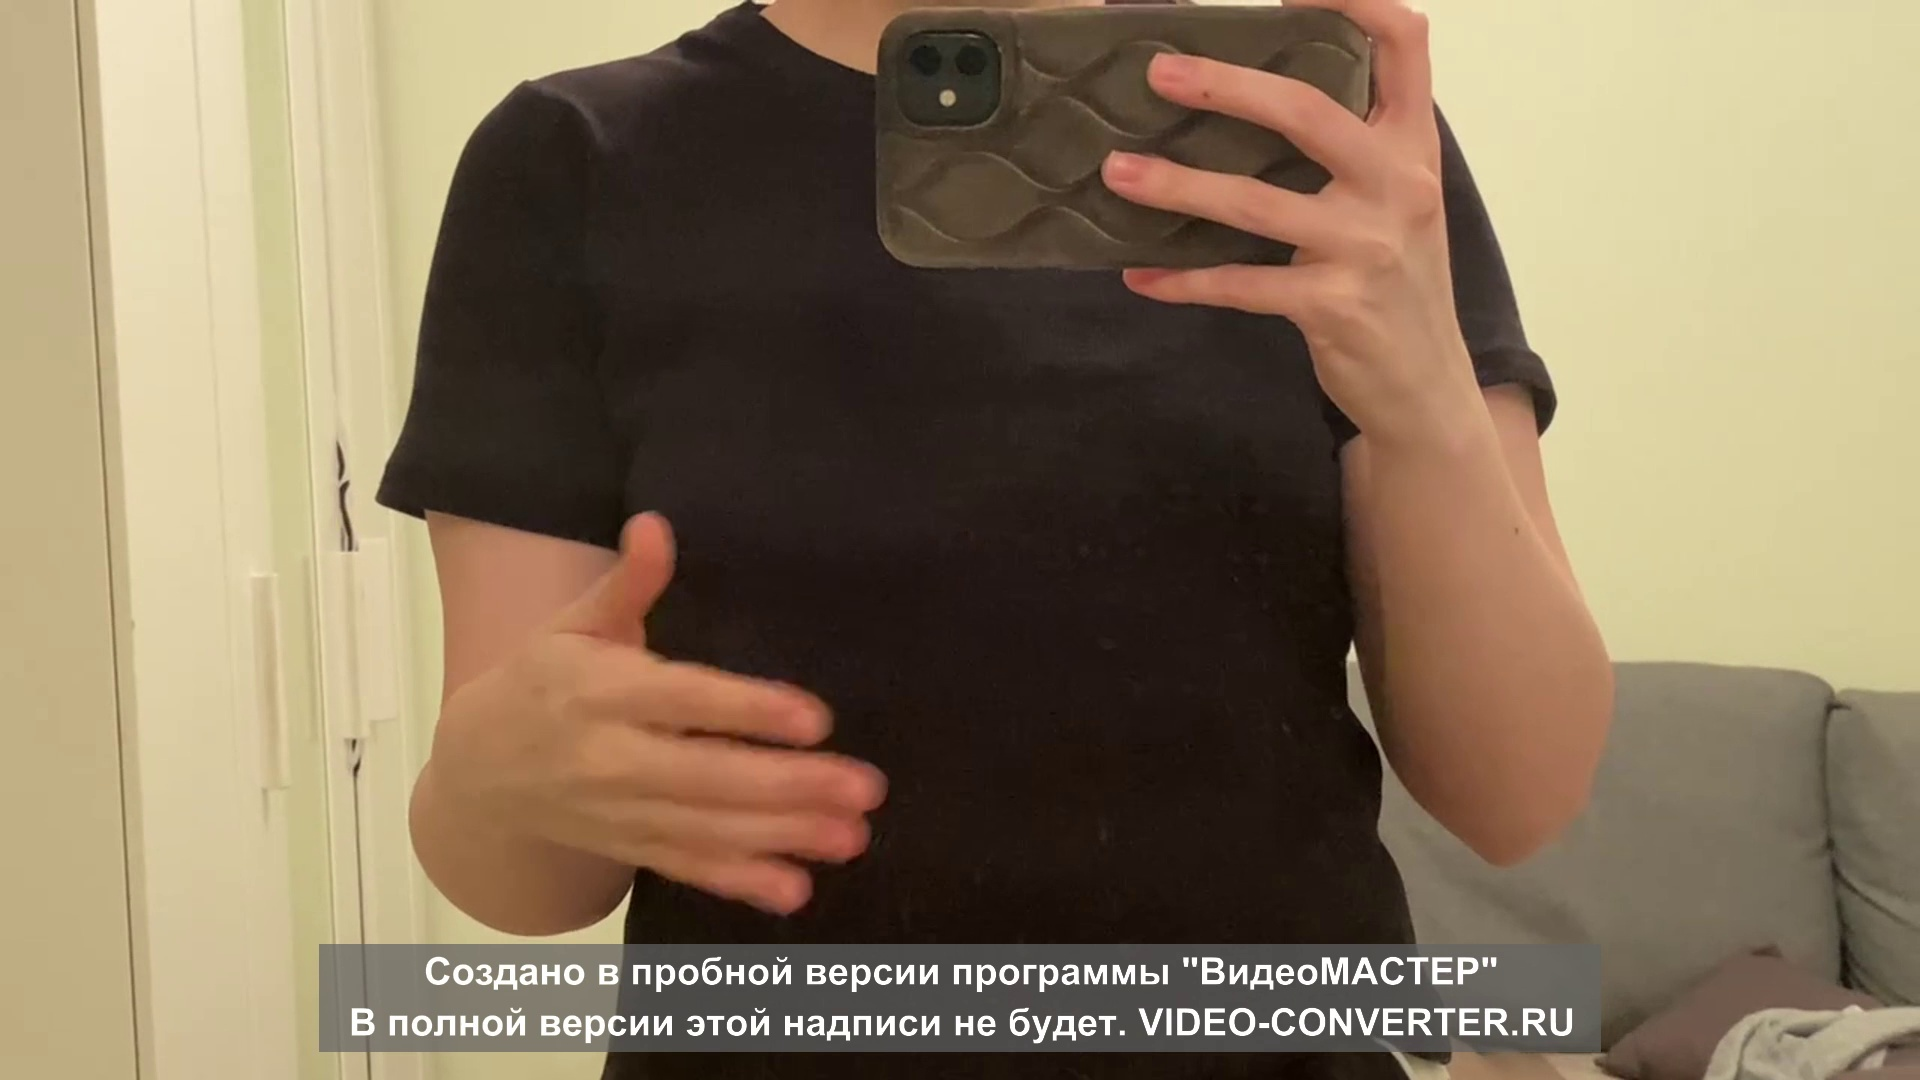Кисть: (436, 508, 893, 915)
